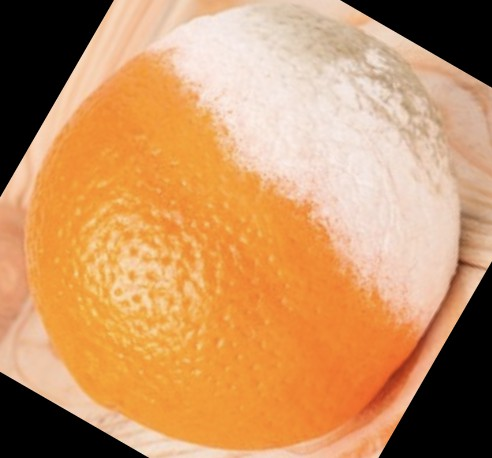rotten_orange: (26, 4, 459, 449)
